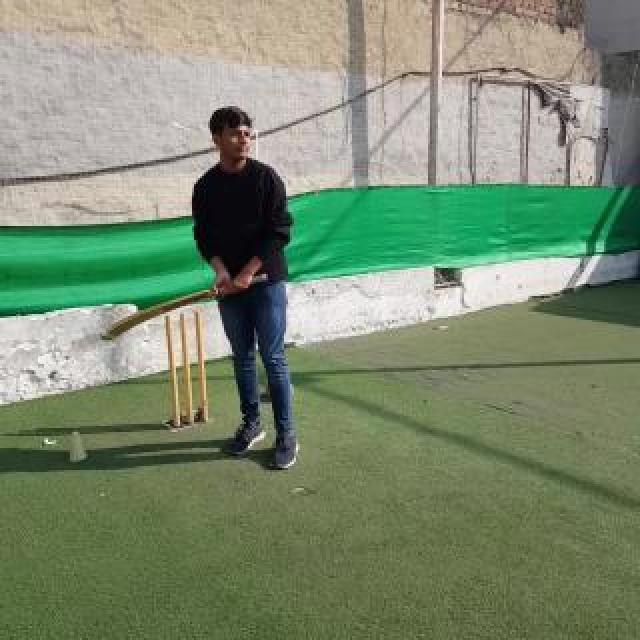bat: (102, 274, 270, 342)
